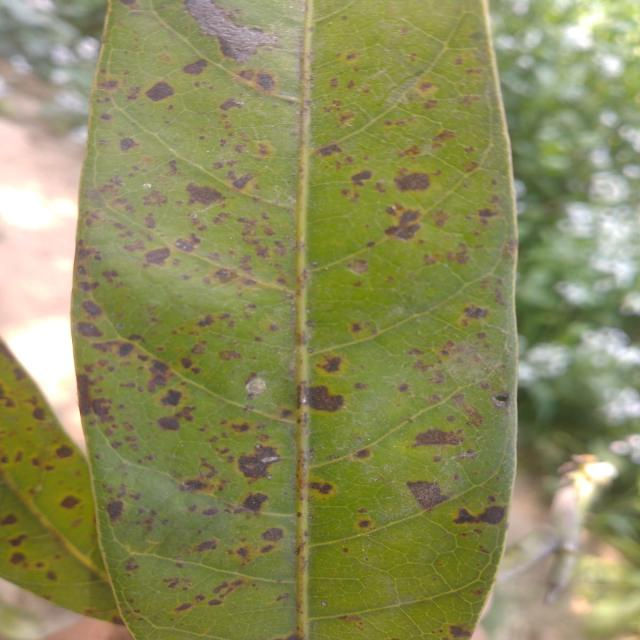Anthracnose: (171, 0, 280, 77), (232, 438, 288, 491), (378, 166, 441, 207), (295, 376, 348, 422), (404, 467, 450, 515), (384, 205, 428, 249), (383, 202, 423, 244), (450, 389, 486, 431), (456, 299, 491, 335), (453, 505, 506, 525), (239, 486, 270, 520), (411, 428, 465, 447), (185, 182, 226, 207), (144, 77, 177, 108), (238, 372, 269, 404), (240, 487, 269, 517), (427, 126, 456, 153), (314, 353, 346, 377), (393, 172, 429, 193), (147, 360, 170, 392), (76, 373, 93, 416), (181, 56, 211, 80), (338, 608, 368, 632), (472, 202, 498, 228), (104, 498, 128, 524), (80, 296, 104, 322), (315, 353, 342, 375), (58, 490, 82, 514), (143, 247, 171, 267), (213, 264, 238, 286), (349, 168, 375, 189), (453, 507, 479, 527), (309, 480, 336, 499), (462, 303, 489, 322), (173, 236, 201, 254), (117, 134, 141, 154), (76, 322, 103, 338), (316, 142, 342, 158), (231, 173, 255, 190), (178, 478, 207, 492), (347, 258, 370, 275), (219, 96, 243, 112), (143, 190, 167, 206), (256, 71, 275, 91), (8, 550, 27, 569), (491, 391, 511, 409), (161, 389, 182, 406), (9, 532, 30, 549), (54, 443, 75, 459), (173, 600, 194, 615), (309, 482, 333, 495), (261, 528, 284, 541), (157, 417, 180, 430), (450, 625, 472, 638), (351, 448, 372, 461), (195, 540, 217, 552), (219, 350, 241, 361), (197, 314, 214, 327), (118, 343, 133, 357), (44, 569, 60, 582), (31, 407, 47, 420), (0, 514, 18, 525), (202, 506, 219, 517), (357, 519, 373, 529), (354, 449, 370, 459), (167, 160, 177, 175), (398, 383, 409, 392), (120, 0, 135, 5)
